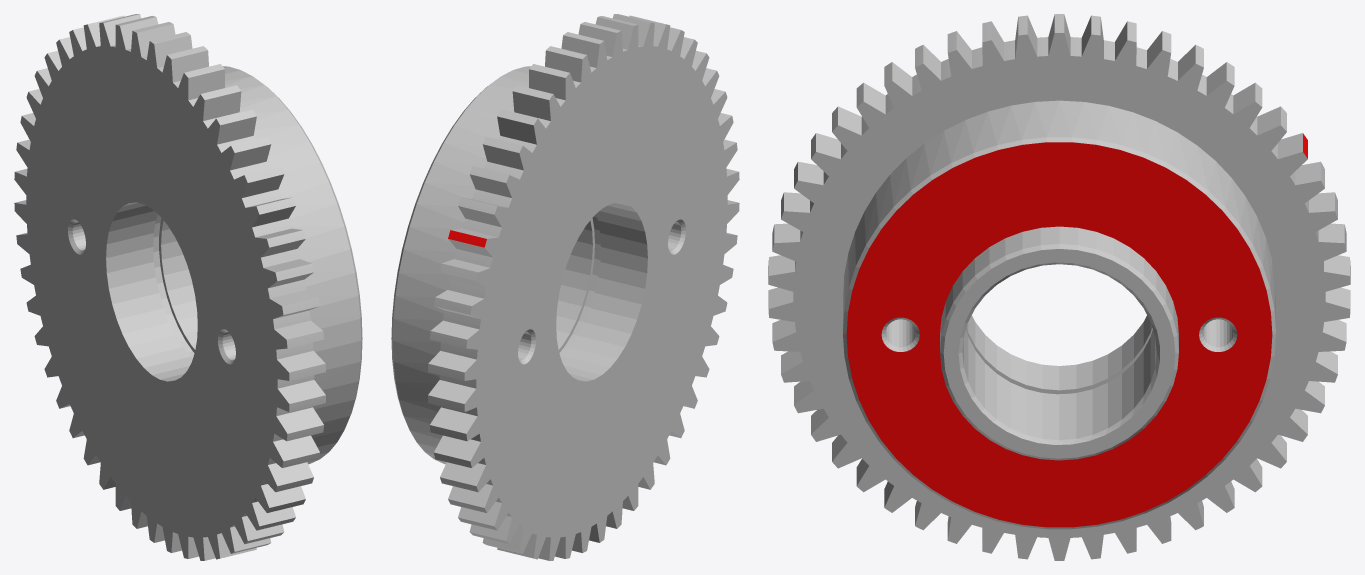
File: 963508_RW44_IT66_stp_54_21.obj
3 views of the same model, side by side, from view 1: azimuth 30°, elevation 25°; view 2: azimuth 150°, elevation 25°; view 3: azimuth 270°, elevation 25° (orthographic). The views are drawn at different scales.
Visible parts, largest first — view 1: Object1; view 2: Object1; view 3: Object1.
Boxes of the visible parts, x1,y1,x2,y2 form: Object1: (14, 14, 362, 560); Object1: (391, 14, 739, 560); Object1: (768, 14, 1350, 560).
Bounding box in the file's own units: 24 × 78 × 77.92.
